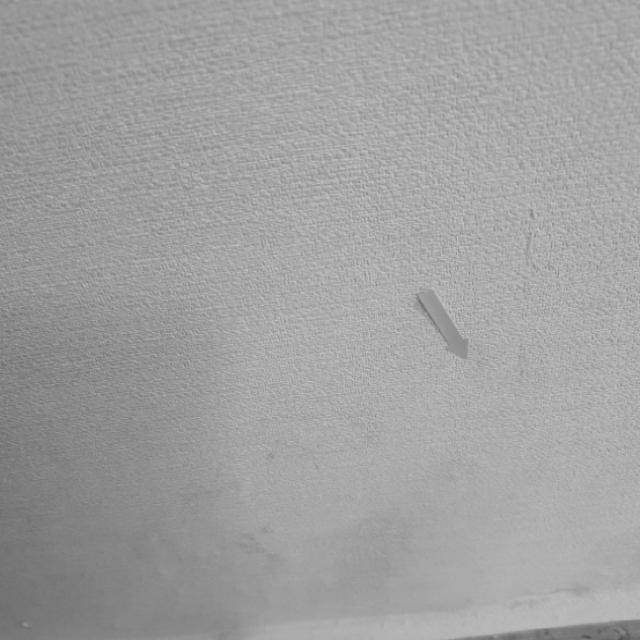stain marks: (21, 456, 224, 627), (330, 435, 512, 613), (226, 442, 330, 625)
